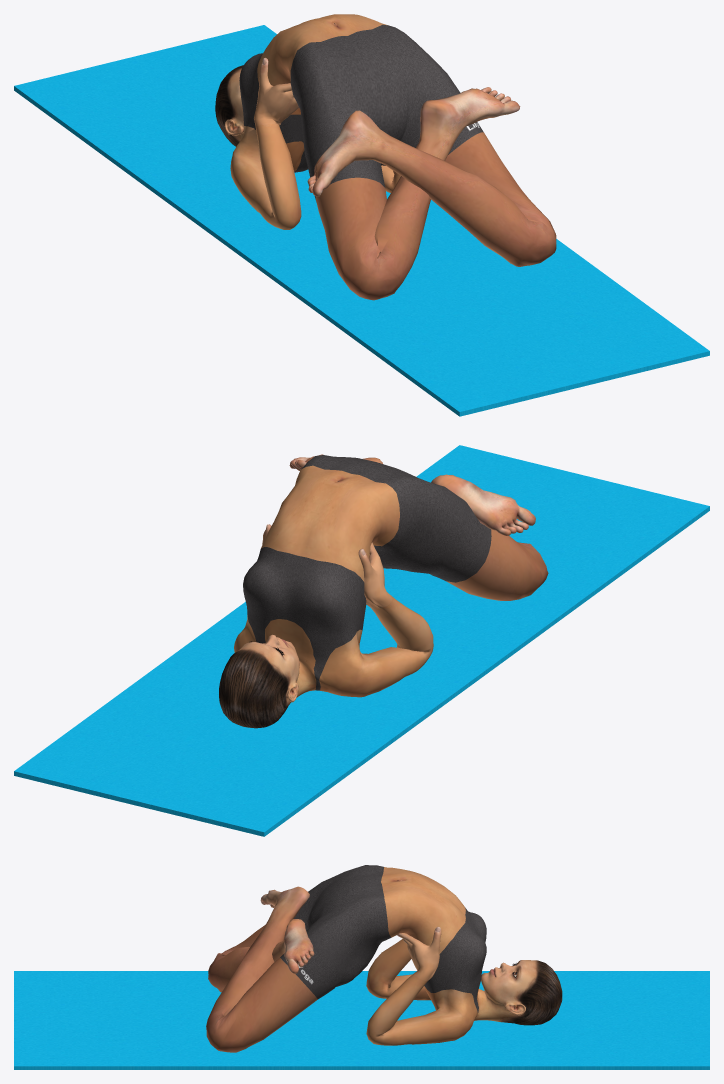
The model's file is mayurasana.glb.
3 renders of one model, top to bottom at view 1: azimuth 30°, elevation 25°; view 2: azimuth 150°, elevation 25°; view 3: azimuth 270°, elevation 25°, orthographic. The views are drawn at different scales.
Visible parts, largest first — view 1: Mat-one-piece_jpg-material, Lily_Texture01_06_2016_jpg-material; view 2: Mat-one-piece_jpg-material, Lily_Texture01_06_2016_jpg-material; view 3: Mat-one-piece_jpg-material, Lily_Texture01_06_2016_jpg-material.
Boxes of the visible parts, x1,y1,x2,y2 form: Mat-one-piece_jpg-material: [14, 25, 709, 416]; Lily_Texture01_06_2016_jpg-material: [215, 14, 556, 300]; Mat-one-piece_jpg-material: [14, 445, 709, 836]; Lily_Texture01_06_2016_jpg-material: [219, 454, 548, 728]; Mat-one-piece_jpg-material: [14, 971, 709, 1069]; Lily_Texture01_06_2016_jpg-material: [206, 865, 562, 1052].
Size of the model in its own units: 2 by 1.39 by 6.17.
Materials: 3 (2 with a texture image).
